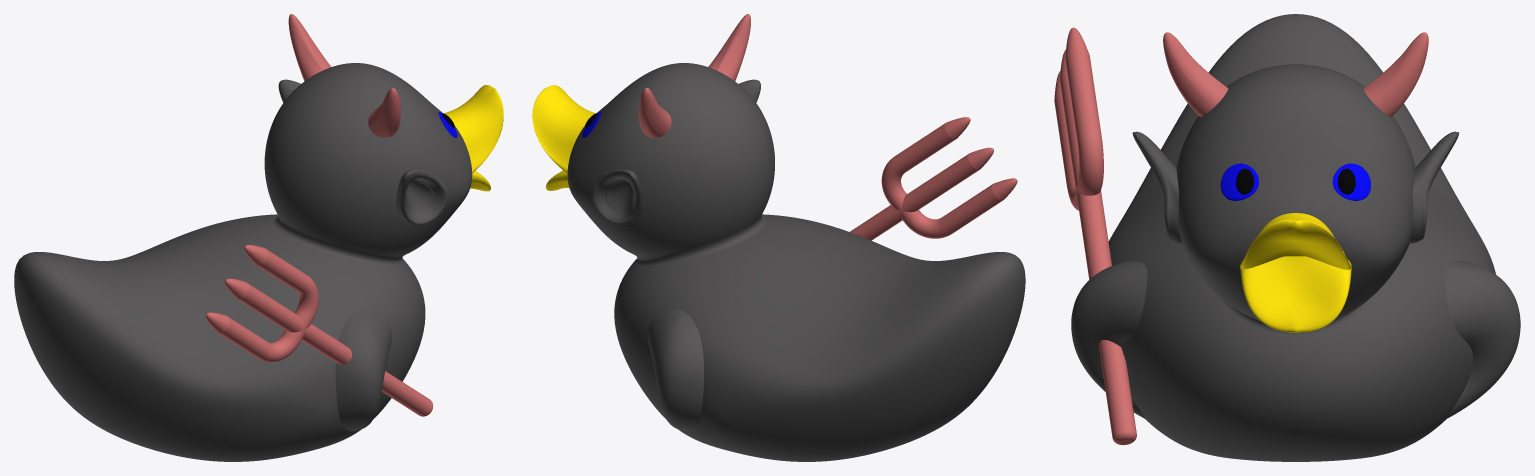
Rendered from duck.gltf.
3 views of the same model, side by side, from view 1: azimuth 30°, elevation 25°; view 2: azimuth 150°, elevation 25°; view 3: azimuth 270°, elevation 25° (orthographic). The views are drawn at different scales.
Visible parts, largest first — view 1: duck; view 2: duck; view 3: duck.
Boxes of the visible parts, x1,y1,x2,y2 form: duck: (14,14,503,461); duck: (532,14,1025,461); duck: (1054,14,1520,461).
Bounding box in the file's own units: 0.6712 × 0.4735 × 0.4525.
